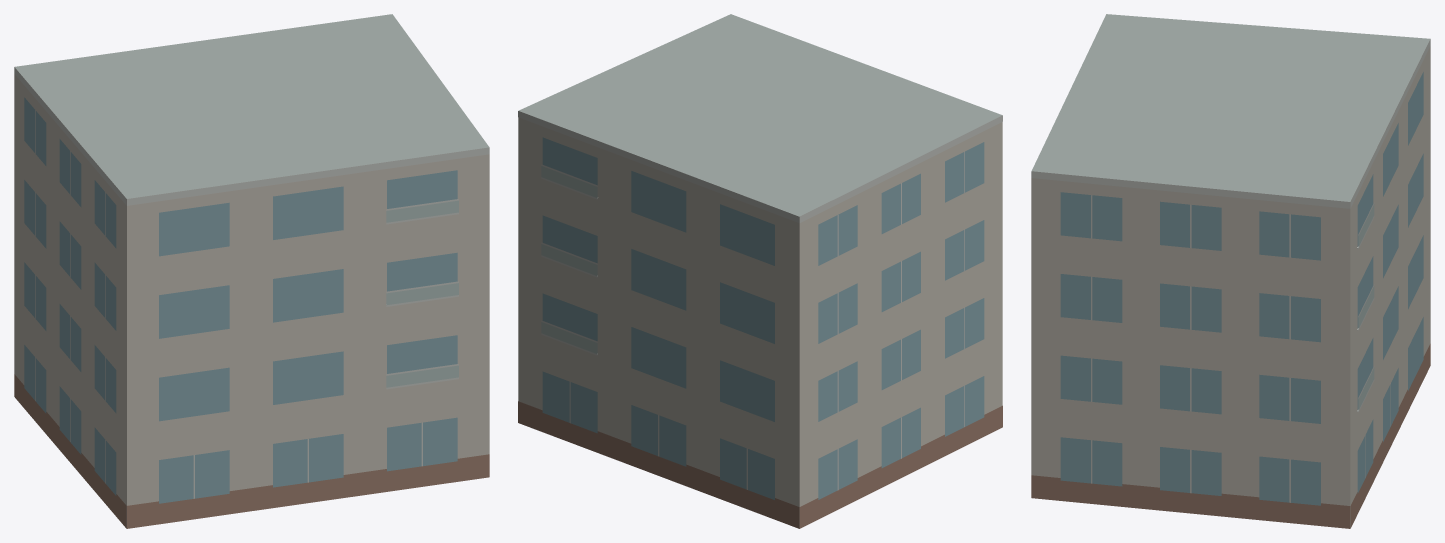
File: survey-upis-32844984.glb
3 views of the same model, side by side, from view 1: azimuth 30°, elevation 25°; view 2: azimuth 150°, elevation 25°; view 3: azimuth 270°, elevation 25° (orthographic). The views are drawn at different scales.
Parts seen in each view (by area): view 1: survey-upis-32844984.tmp; view 2: survey-upis-32844984.tmp; view 3: survey-upis-32844984.tmp.
Boxes of the visible parts, x1,y1,x2,y2 form: survey-upis-32844984.tmp: (14,14,489,528); survey-upis-32844984.tmp: (518,14,1002,528); survey-upis-32844984.tmp: (1031,14,1430,528).
Bounding box in the file's own units: 14.41 × 11.67 × 12.92.
